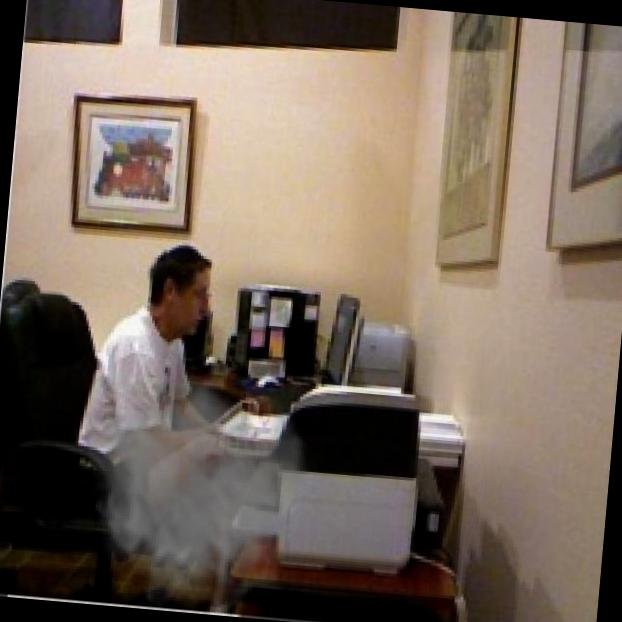smoke: (75, 358, 330, 622)
